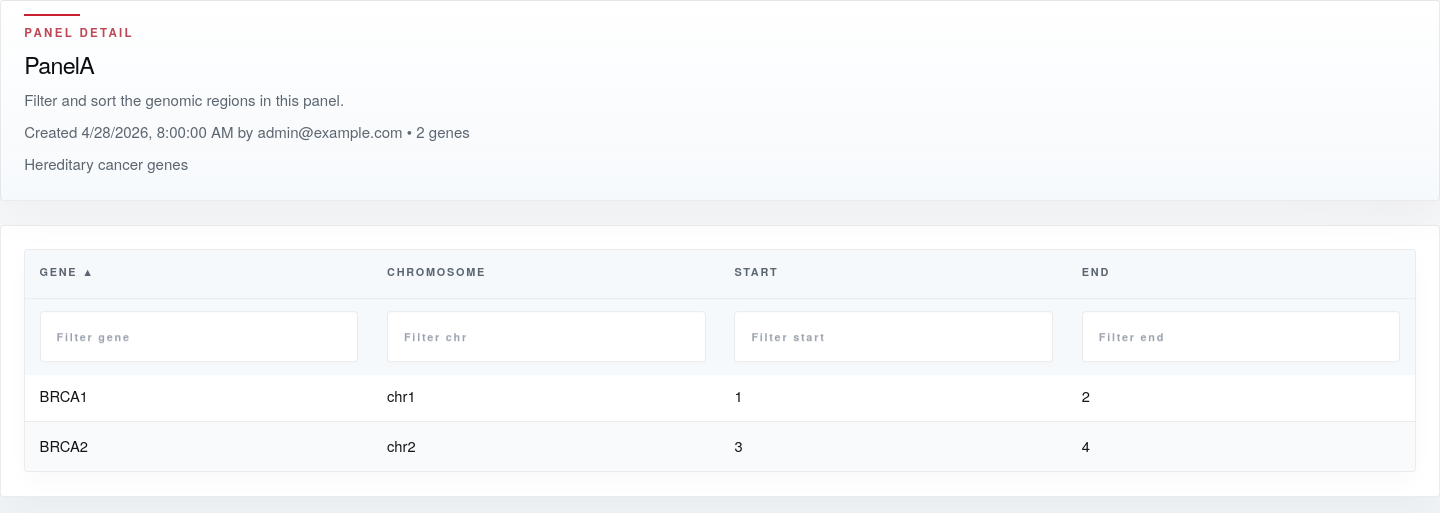
Test: GenePanelDetailPage › allows sorting and filtering
Expected: the text "BRCA1" is shown, x1=25 y1=371 x2=373 y2=421
Click the column heading "Gene ▲" at (199,272), box x1=25 y1=250 x2=373 y2=294
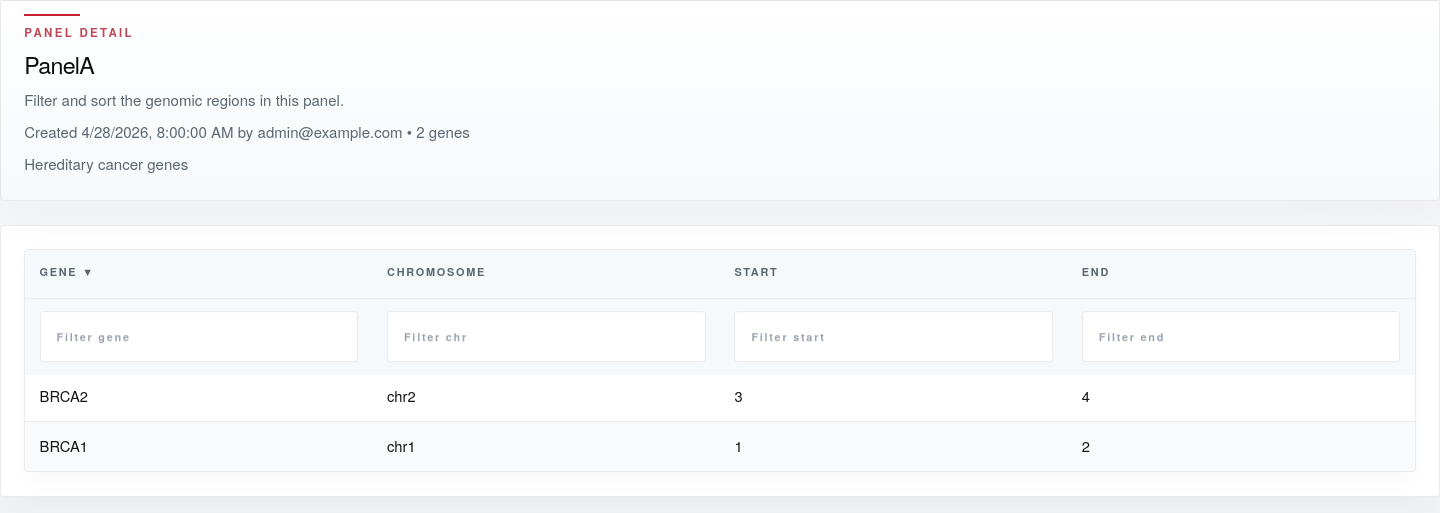
Expected: the text "BRCA2" is shown, x1=25 y1=371 x2=373 y2=421
Type "BRCA2" into the field with placeholder "Filter gene" at (199,337), box x1=40 y1=311 x2=358 y2=362
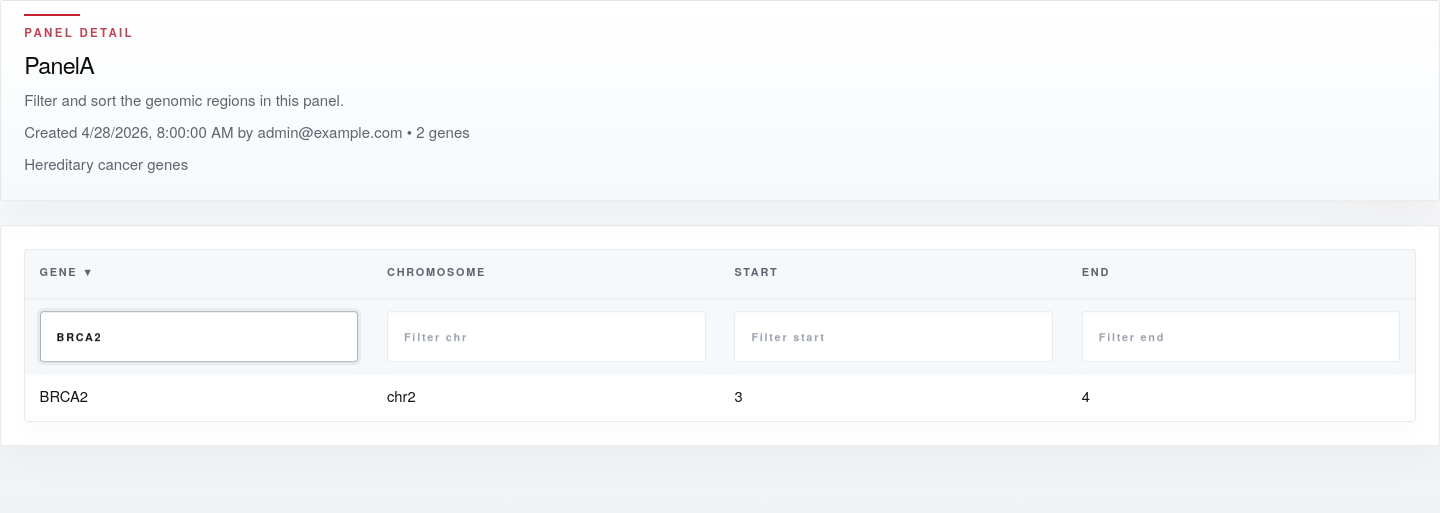
Expected: the text "BRCA2" is shown, x1=25 y1=371 x2=373 y2=421
Expected: the text "BRCA1" is gone
